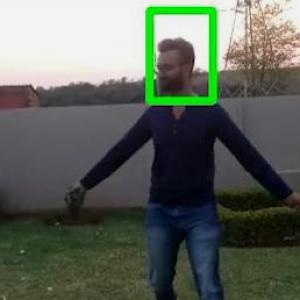land: (36, 8, 299, 299)
